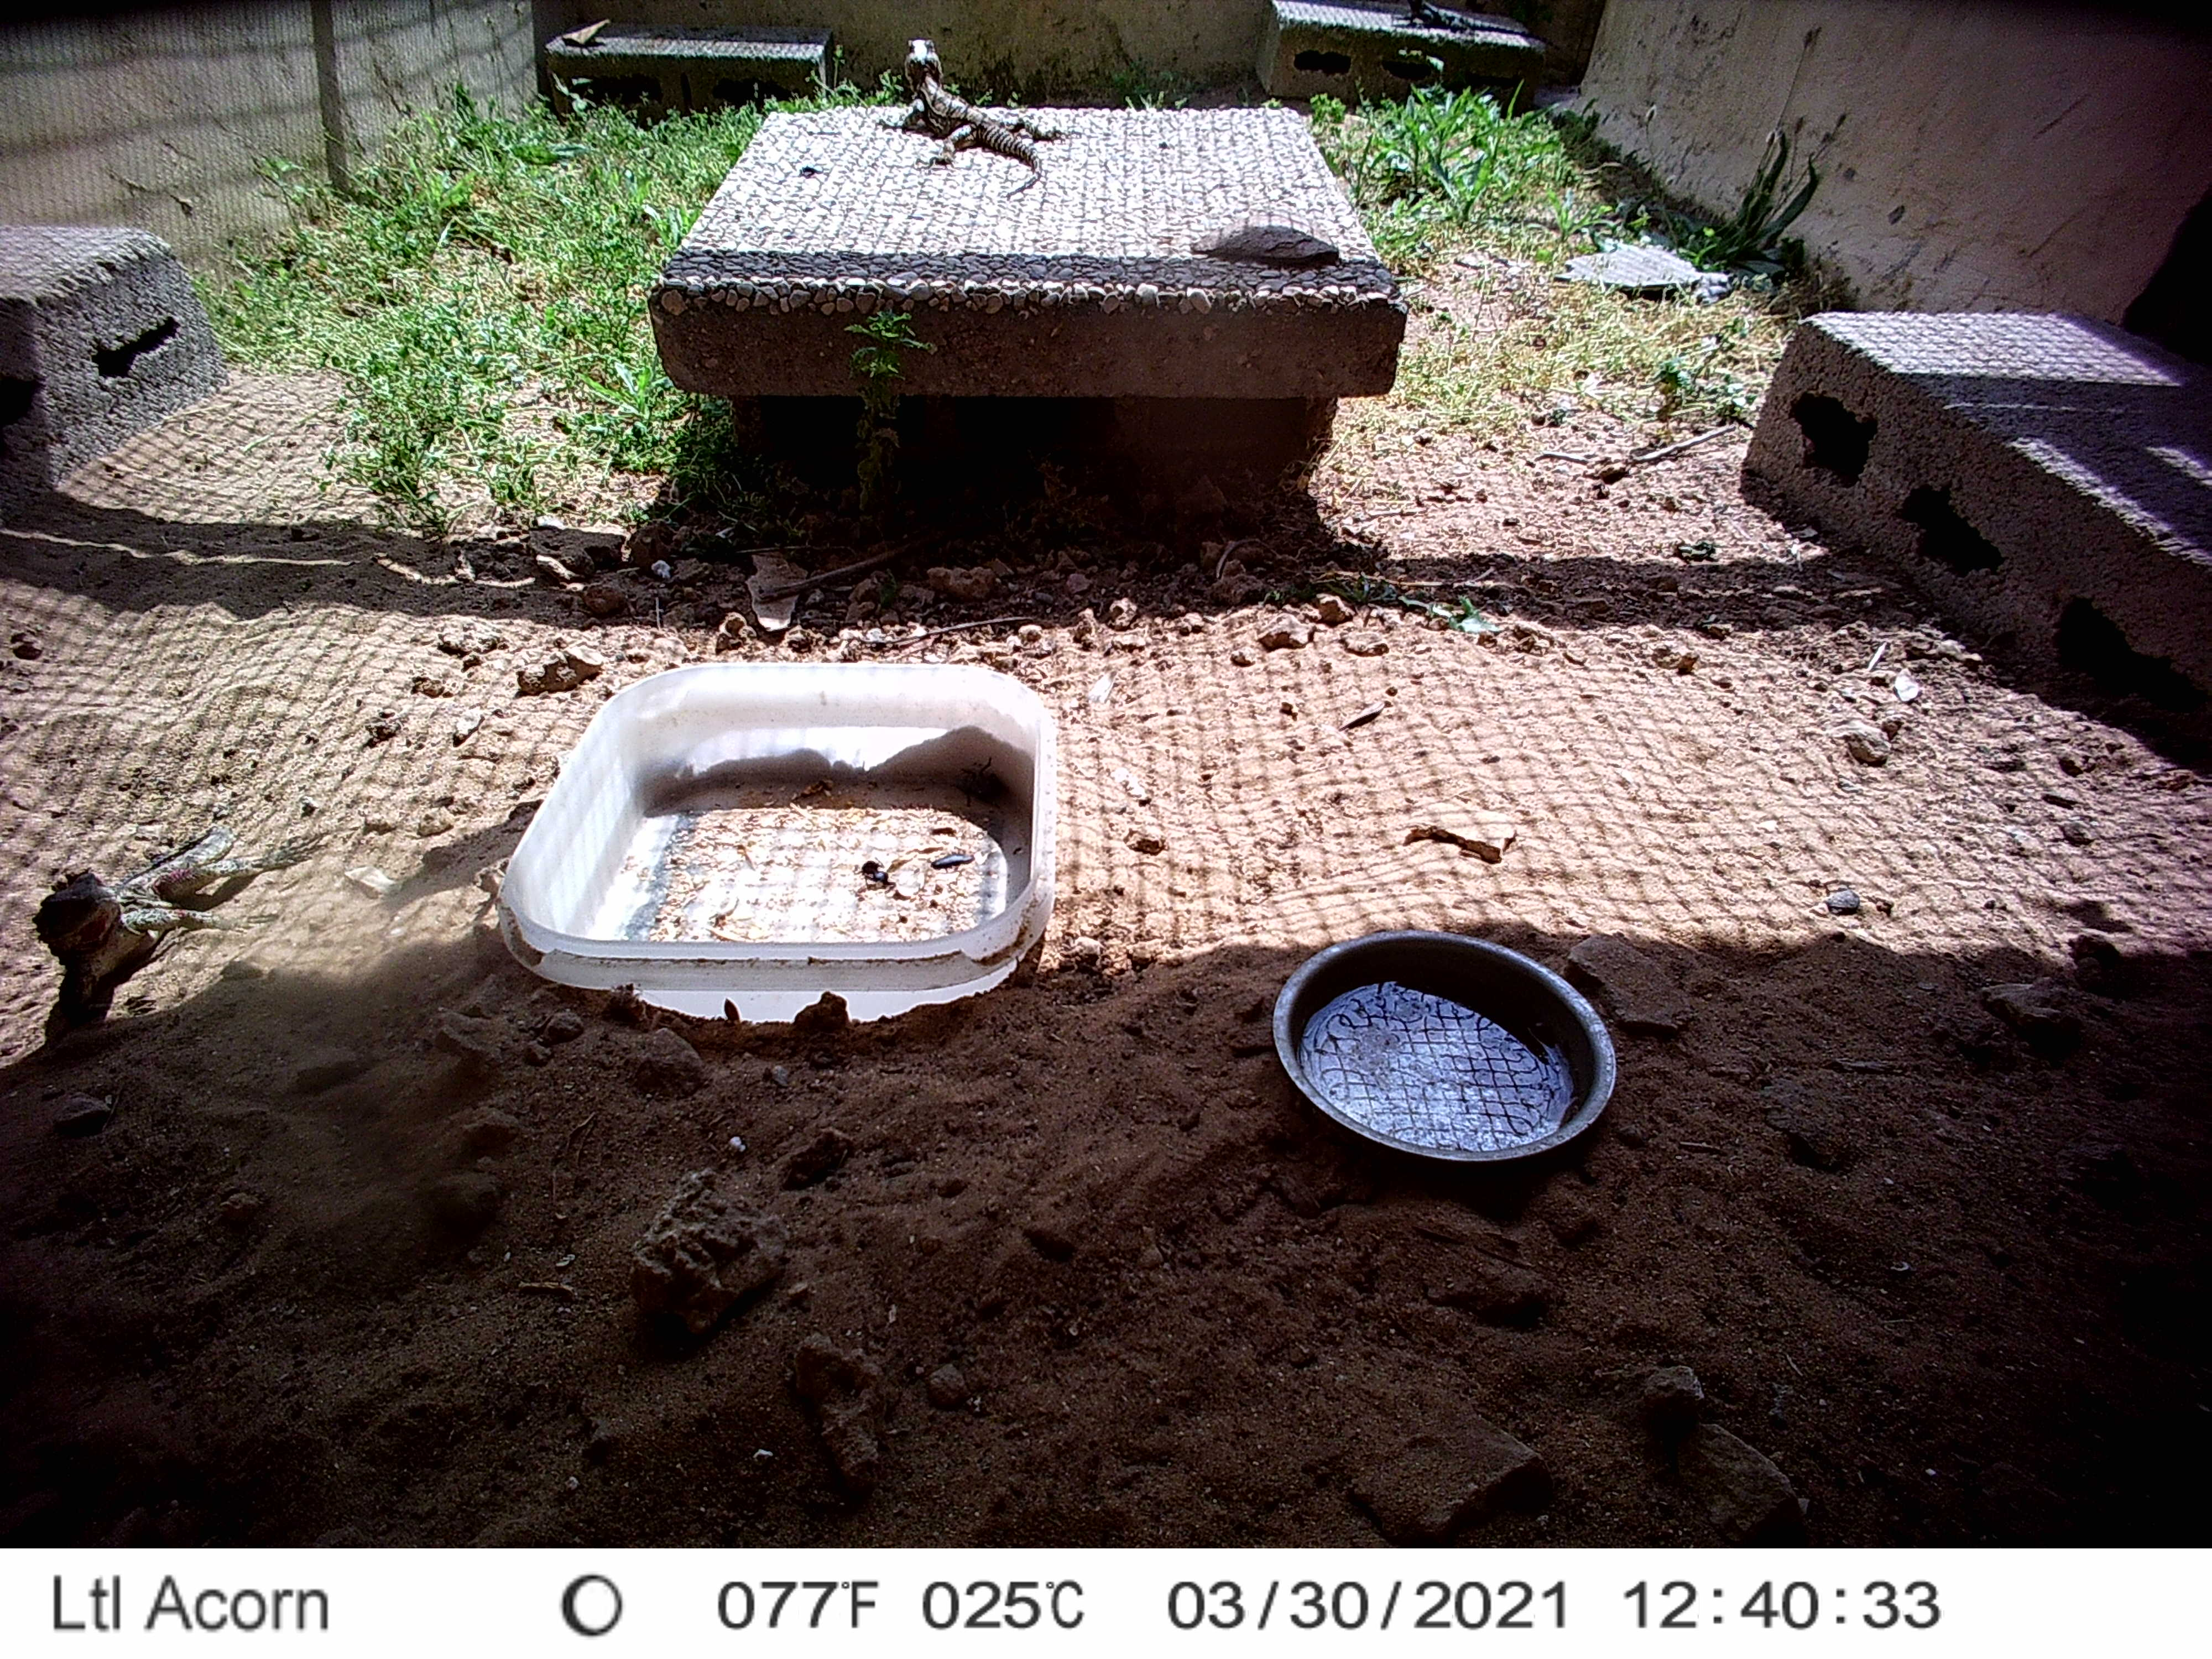lizard: (24, 814, 338, 1007), (890, 30, 1066, 195), (1385, 0, 1541, 42)
